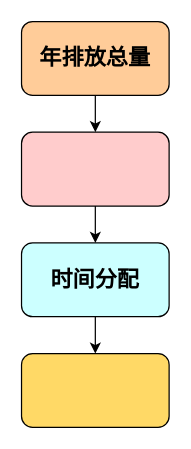
Image size: 191x449. Some labels were removed from this diagram. Each missing label, with the centre of its shape:
空间区域分配: the point at 94,168
静态源清单: the point at 94,389
